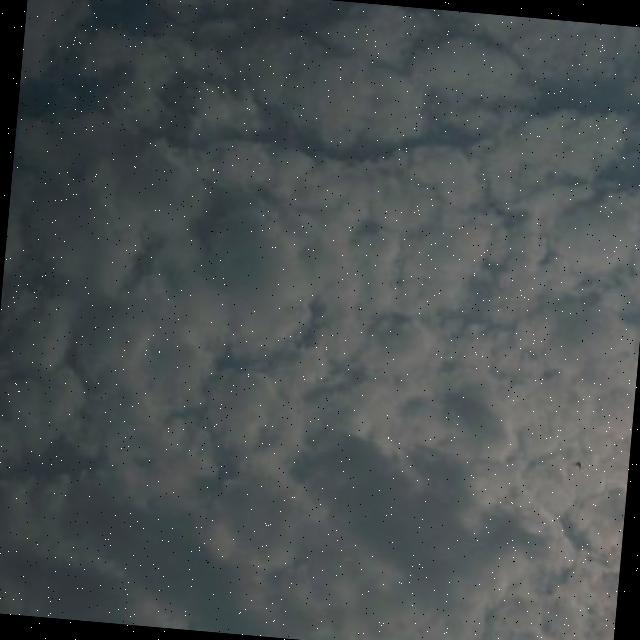Ac: (35, 33, 640, 578)
